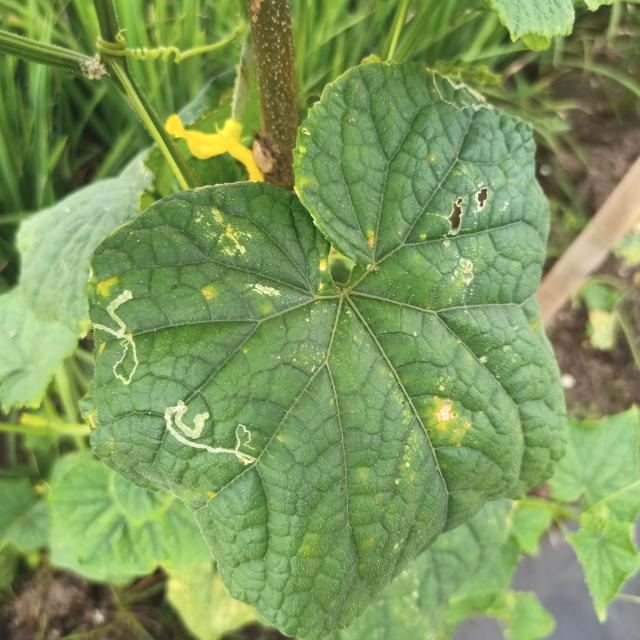disease_cucumber: (436, 185, 494, 294), (192, 206, 260, 262), (193, 274, 282, 308), (434, 394, 472, 444), (91, 273, 119, 299), (314, 256, 331, 294), (362, 234, 377, 256), (88, 414, 96, 431)
